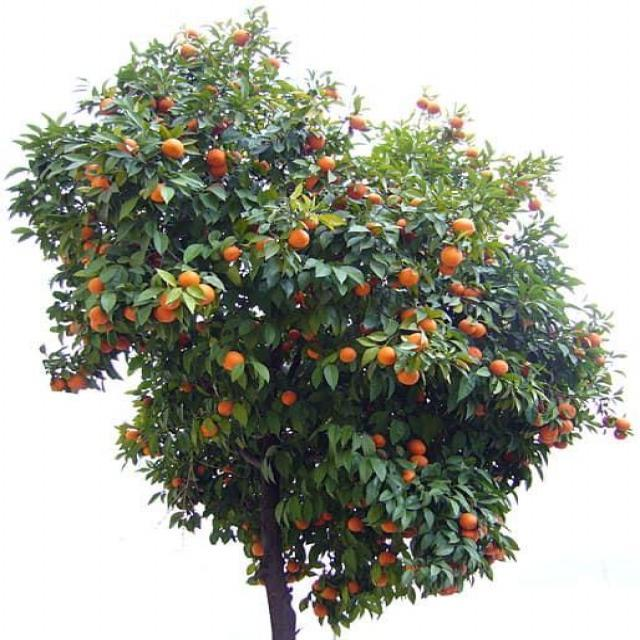Jeruk Sudah Matang: (186, 280, 220, 310), (218, 348, 252, 376), (157, 135, 190, 163), (393, 364, 426, 392), (283, 228, 317, 252), (201, 146, 235, 170), (396, 264, 424, 291), (374, 342, 402, 369), (405, 434, 433, 461), (438, 244, 468, 268), (448, 214, 478, 238), (85, 276, 114, 296), (178, 270, 202, 292), (336, 344, 360, 366), (278, 388, 302, 410), (314, 153, 338, 174), (486, 358, 514, 376), (456, 512, 482, 530)
